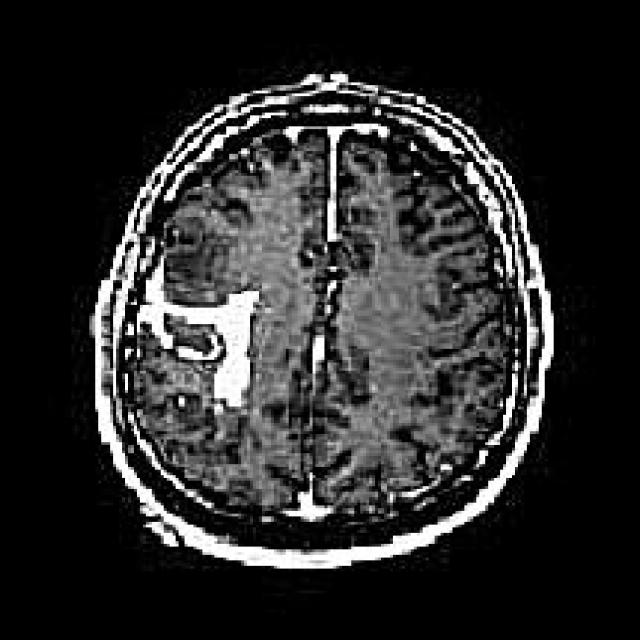Tumor-Cell: (122, 240, 297, 405)
